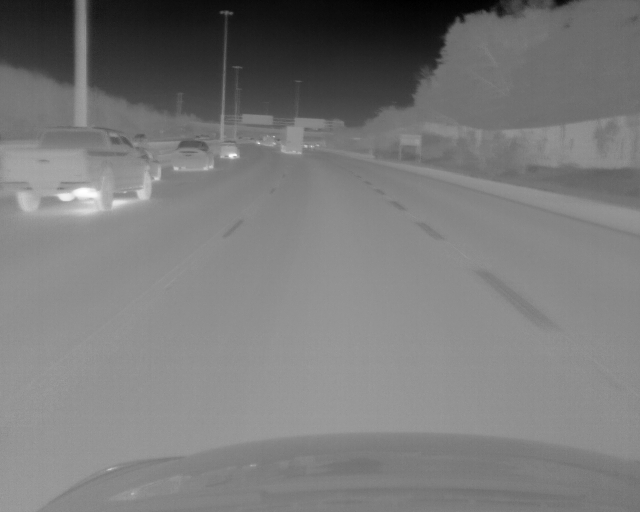car: (1, 123, 154, 209), (172, 138, 215, 170), (139, 142, 162, 178), (279, 124, 304, 154), (219, 139, 241, 158), (132, 132, 150, 140)
